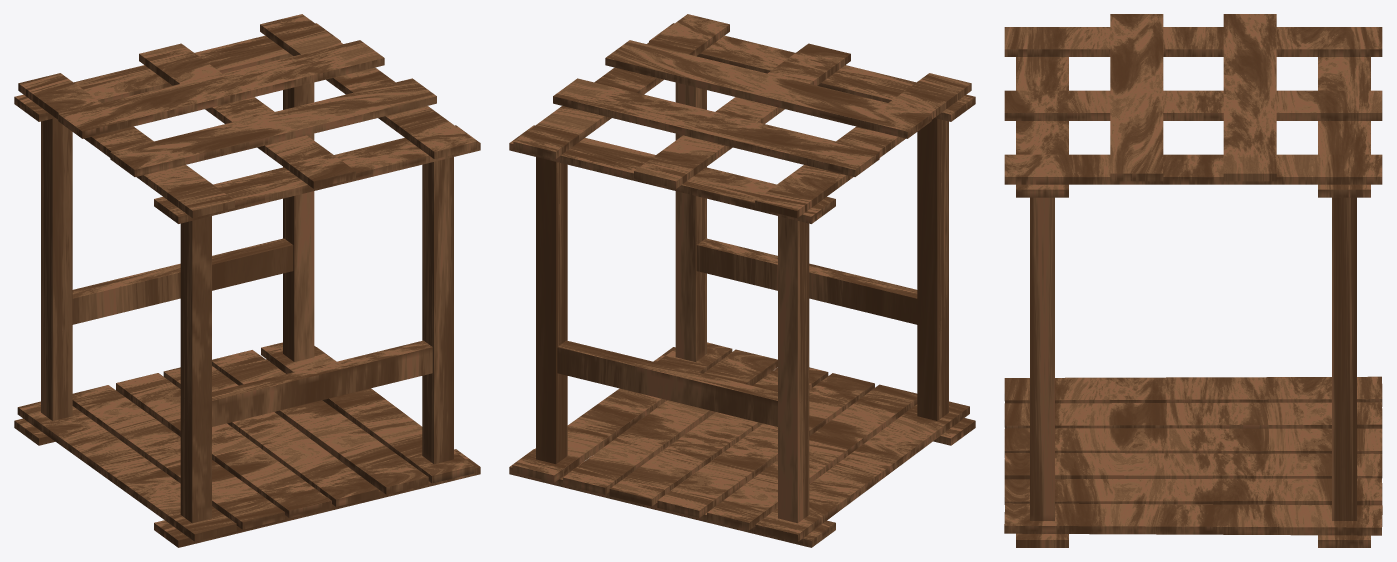
File: elevatorJoined.fbx
The picture shows the model from 3 angles, left to right: view 1: azimuth 30°, elevation 25°; view 2: azimuth 150°, elevation 25°; view 3: azimuth 270°, elevation 25°; orthographic projection. The views are drawn at different scales.
Parts seen in each view (by area): view 1: Cube.008; view 2: Cube.008; view 3: Cube.008.
Boxes of the visible parts, x1,y1,x2,y2 form: Cube.008: (14,14,480,547); Cube.008: (509,14,975,547); Cube.008: (1004,14,1382,547).
Bounding box in the file's own units: 10.02 × 10 × 10.94.
